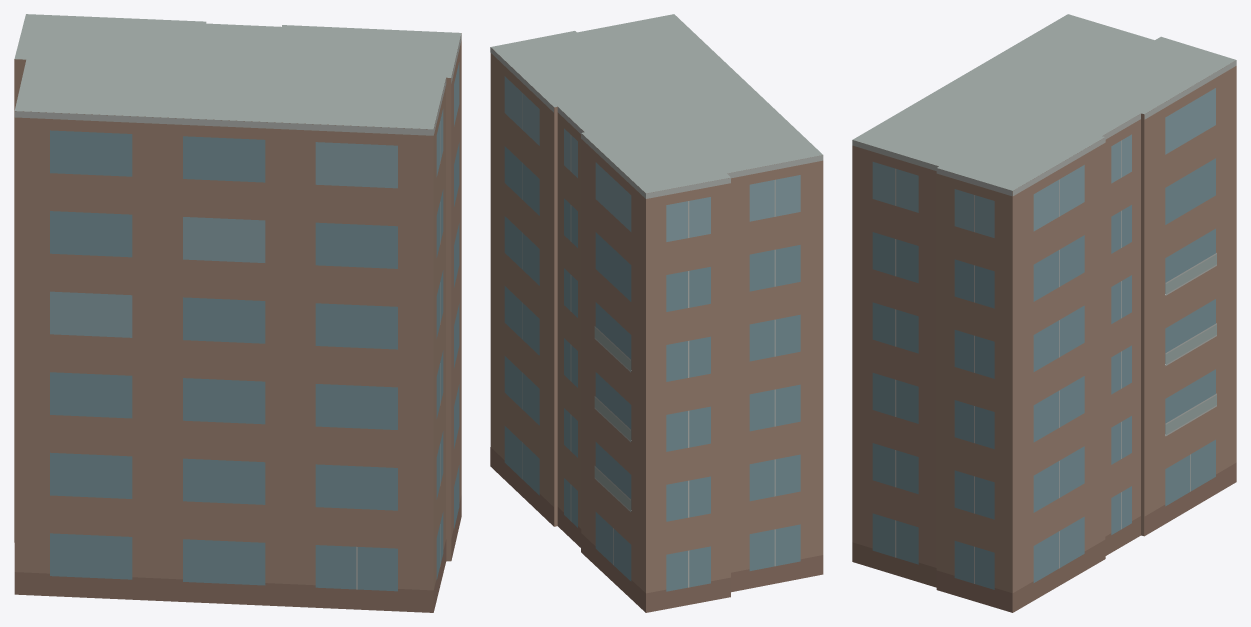
File: survey-upis-33014098.glb
3 renders of one model, left to right at view 1: azimuth 30°, elevation 25°; view 2: azimuth 150°, elevation 25°; view 3: azimuth 270°, elevation 25°, orthographic. The views are drawn at different scales.
Visible parts, largest first — view 1: survey-upis-33014098.tmp; view 2: survey-upis-33014098.tmp; view 3: survey-upis-33014098.tmp.
Part boxes in pixels (x1,y1,x2,y2): survey-upis-33014098.tmp: (14,14,461,612); survey-upis-33014098.tmp: (490,14,823,612); survey-upis-33014098.tmp: (852,14,1236,612).
Size of the model in its own units: 16.46 by 18.3 by 15.11.
